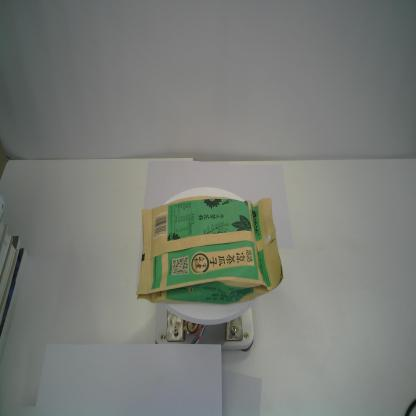Dried Food: (134, 195, 286, 310)
